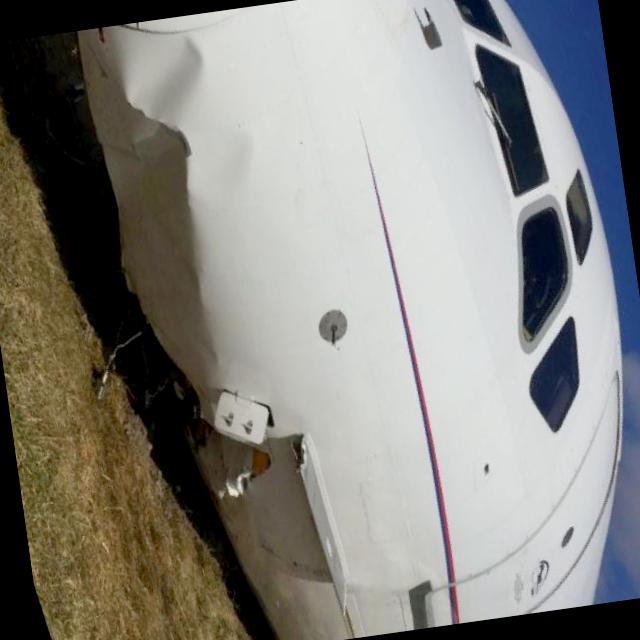dent: (123, 27, 218, 121), (197, 124, 265, 196)
